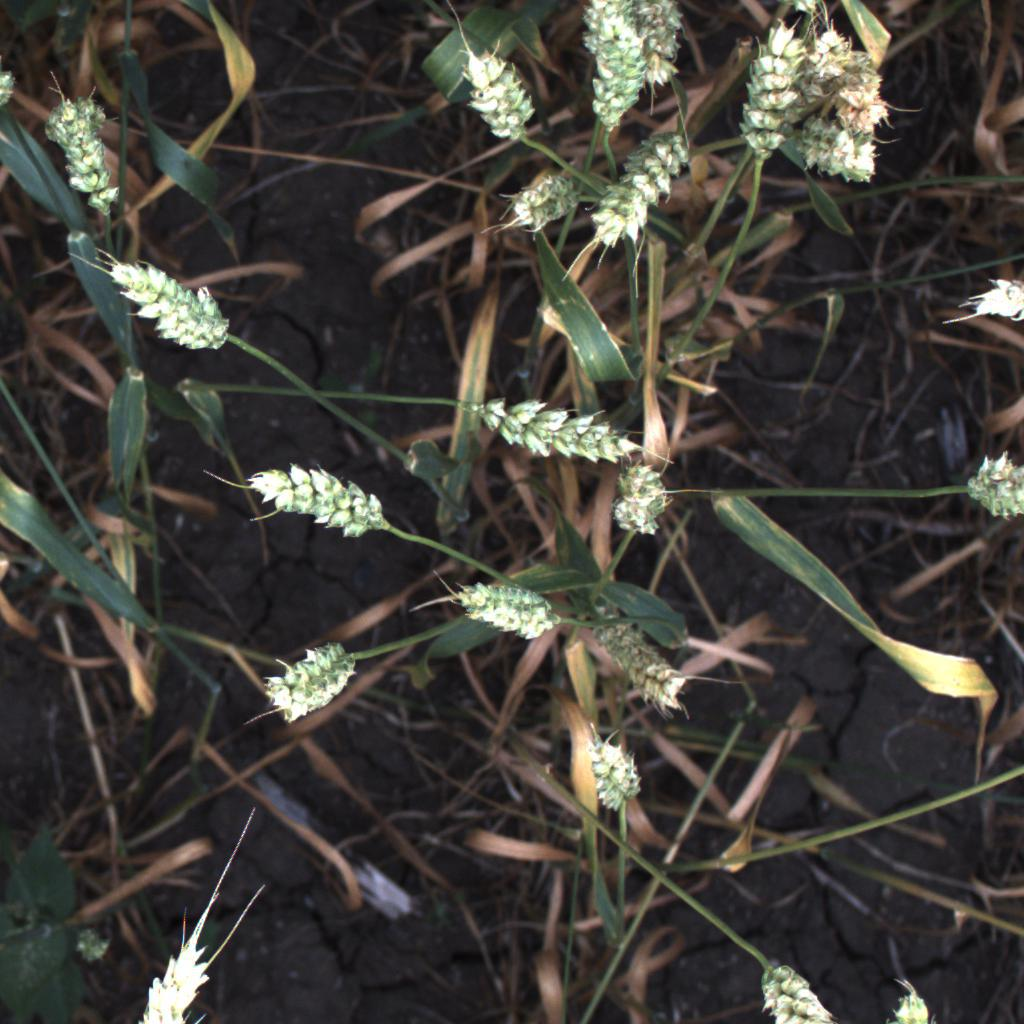0-0: (37, 84, 1024, 339), (218, 441, 396, 554), (457, 383, 651, 470), (565, 596, 695, 719), (104, 242, 237, 359), (437, 555, 581, 658), (593, 126, 701, 259), (445, 27, 544, 157), (242, 629, 369, 729), (560, 0, 648, 138), (732, 18, 805, 163), (122, 927, 224, 1024), (488, 148, 584, 251), (559, 724, 652, 827), (795, 114, 900, 193), (949, 433, 1024, 533), (744, 957, 844, 1024), (794, 25, 855, 118), (640, 1, 696, 101), (602, 453, 688, 507), (838, 48, 890, 132), (875, 970, 951, 1024), (603, 501, 666, 545), (0, 52, 19, 122)
